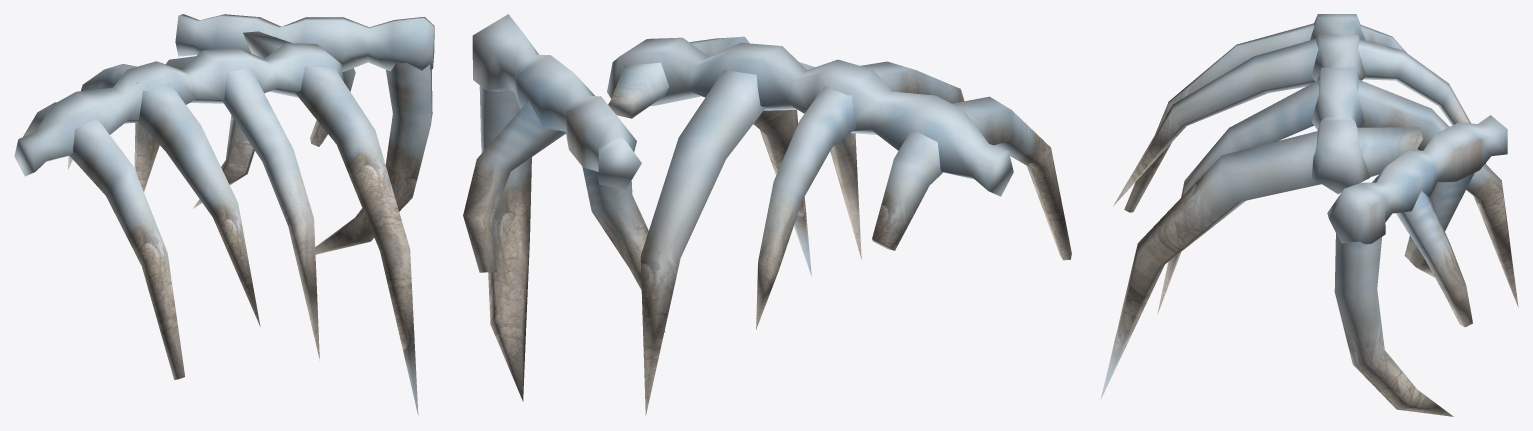
The model's file is Ice_bones03.FBX.
The picture shows the model from 3 angles, left to right: view 1: azimuth 30°, elevation 25°; view 2: azimuth 150°, elevation 25°; view 3: azimuth 270°, elevation 25°; orthographic projection. The views are drawn at different scales.
Parts seen in each view (by area): view 1: 10204_bone009; view 2: 10204_bone009; view 3: 10204_bone009.
Boxes of the visible parts, x1=… form: 10204_bone009: x1=14, y1=14, x2=434, y2=415; 10204_bone009: x1=463, y1=14, x2=1071, y2=416; 10204_bone009: x1=1100, y1=14, x2=1518, y2=416.
Size of the model in its own units: 526 by 350 by 456.
